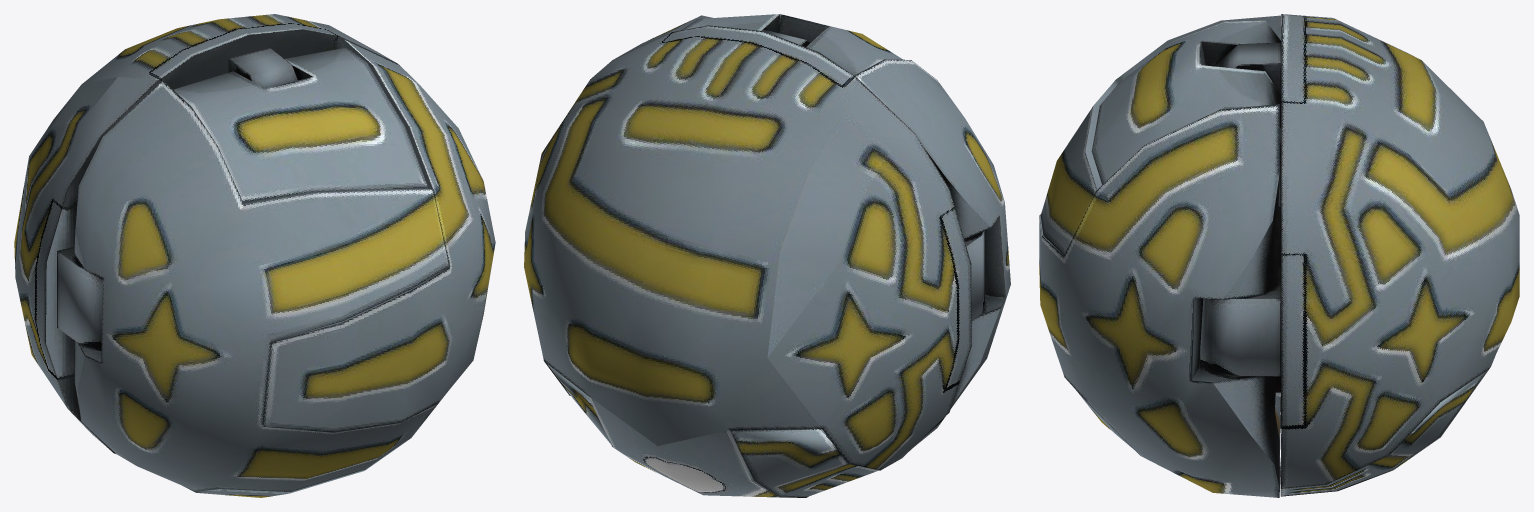
File: ball.glb
3 views of the same model, side by side, from view 1: azimuth 30°, elevation 25°; view 2: azimuth 150°, elevation 25°; view 3: azimuth 270°, elevation 25° (orthographic). The views are drawn at different scales.
Size of the model in its own units: 1.69 by 1.75 by 1.72.
1 material, 1 textured.
